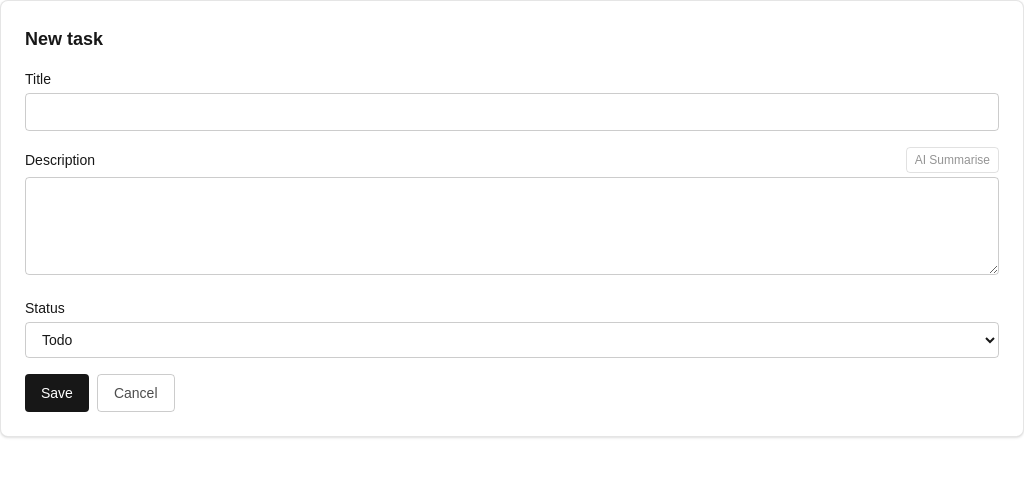
it: TaskForm › shows an inline error and leaves the description untouched on failure
Type "Buy groceries" into the field labelled "Title" at (512, 112), box x1=25 y1=93 x2=999 y2=131
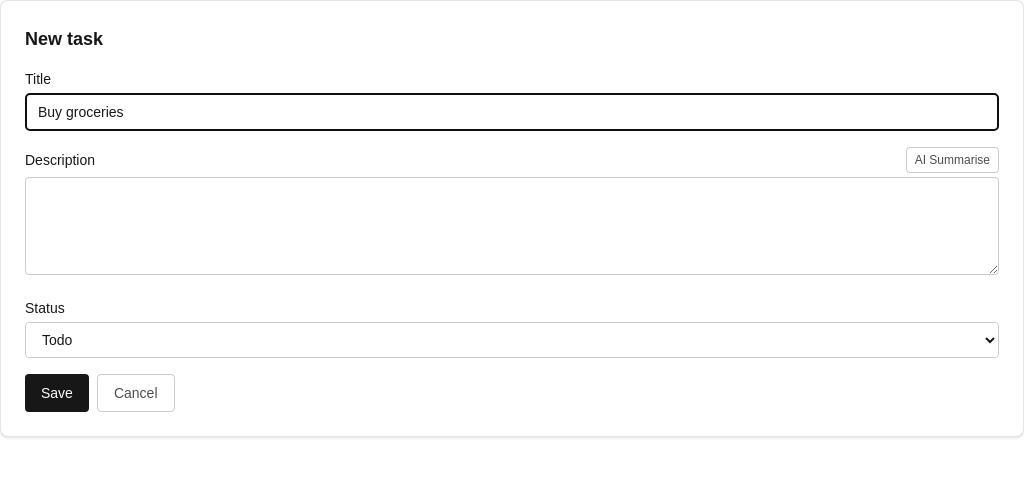
Type "Existing description" into the text box labelled "Description" at (512, 226), box x1=25 y1=177 x2=999 y2=275
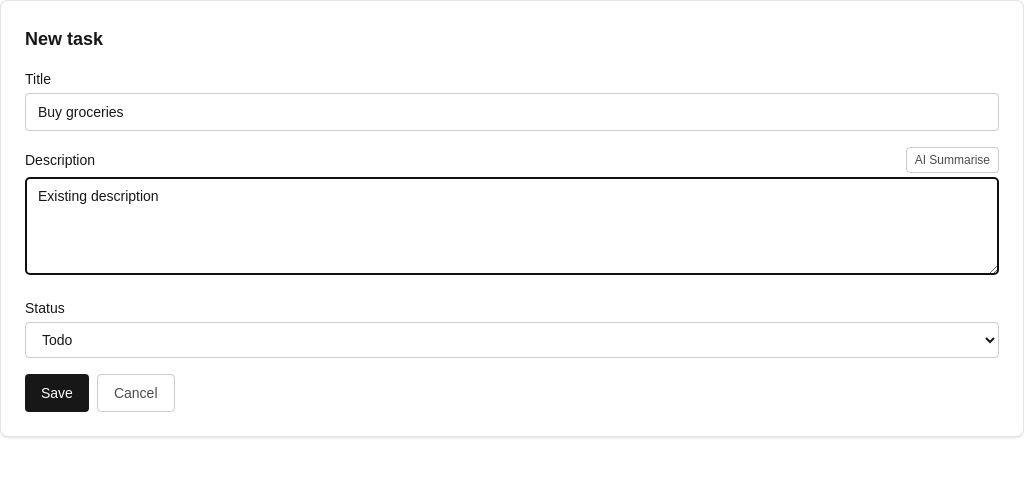
Click the button "AI Summarise" at (952, 160), box x1=906 y1=147 x2=999 y2=173
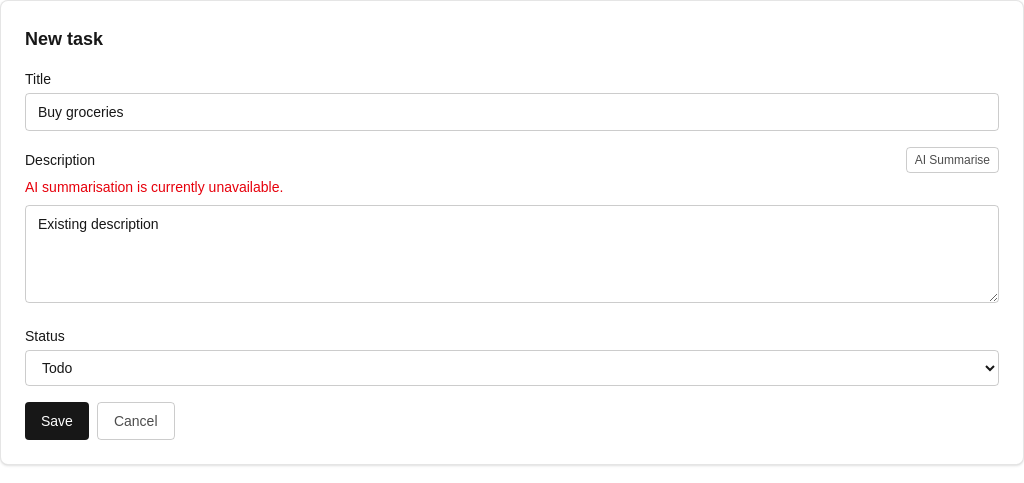
Expected: the text with test id "summarize-error" reads "AI summarisation is currently unavailable.", x1=25 y1=179 x2=283 y2=195
